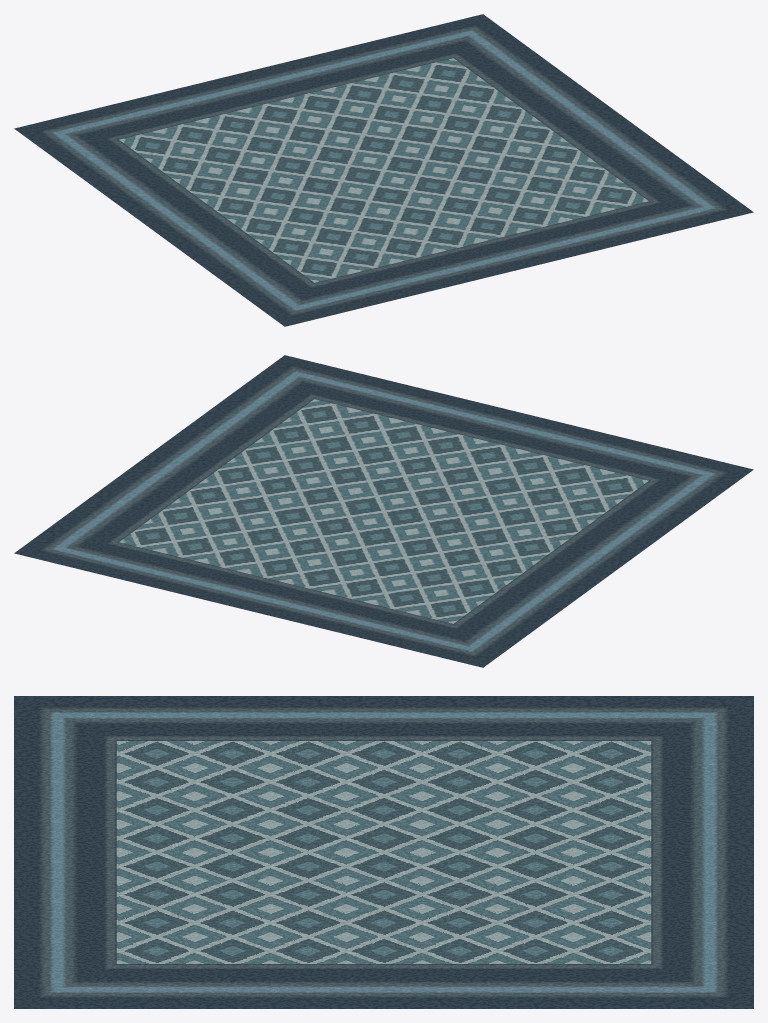
File: DI_024_rug_var01.glb
3 renders of one model, top to bottom at view 1: azimuth 30°, elevation 25°; view 2: azimuth 150°, elevation 25°; view 3: azimuth 270°, elevation 25°, orthographic. The views are drawn at different scales.
Visible parts, largest first — view 1: Rug.001; view 2: Rug.001; view 3: Rug.001.
Part boxes in pixels (bbox=[...]): Rug.001: bbox=[14, 14, 753, 326]; Rug.001: bbox=[14, 355, 753, 667]; Rug.001: bbox=[14, 696, 753, 1008].
Size of the model in its own units: 3 by 0 by 3.
Materials: 2 (2 with a texture image).
